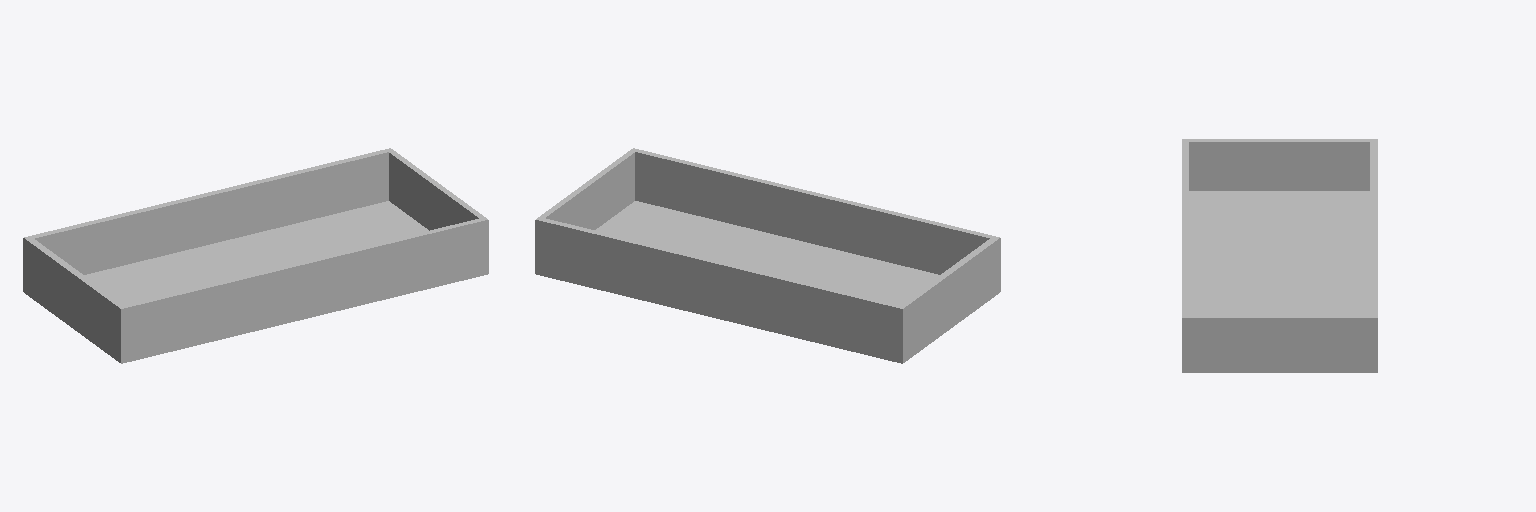
File: colorbox.obj
3 views of the same model, side by side, from view 1: azimuth 30°, elevation 25°; view 2: azimuth 150°, elevation 25°; view 3: azimuth 270°, elevation 25° (orthographic).
Parts seen in each view (by area): view 1: Cube; view 2: Cube; view 3: Cube.
Boxes of the visible parts, <box> form: Cube: <box>23,148,488,363</box>; Cube: <box>535,148,1000,363</box>; Cube: <box>1182,139,1377,372</box>.
Bounding box in the file's own units: 3.25 × 0.4637 × 1.5.